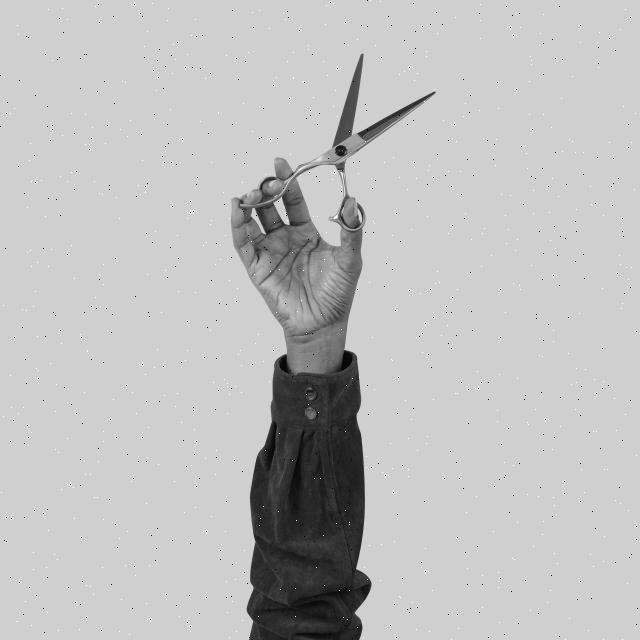scissors: (236, 51, 438, 235)
